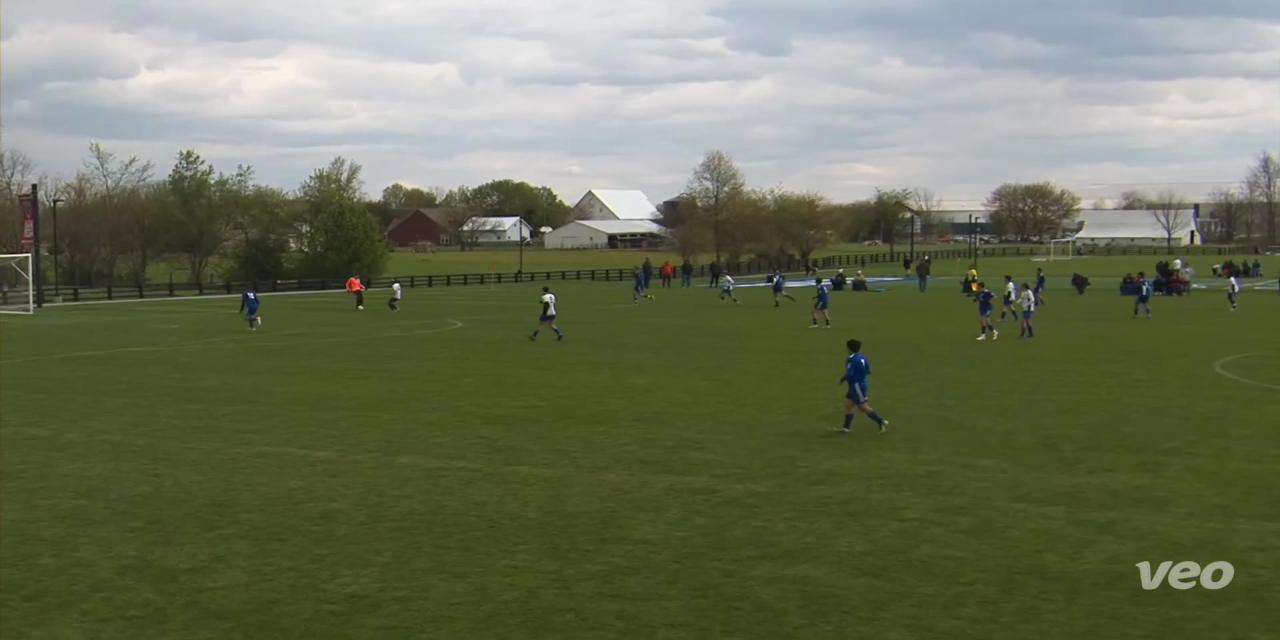goal: (0, 242, 44, 321)
sports ball: (356, 302, 367, 315)
